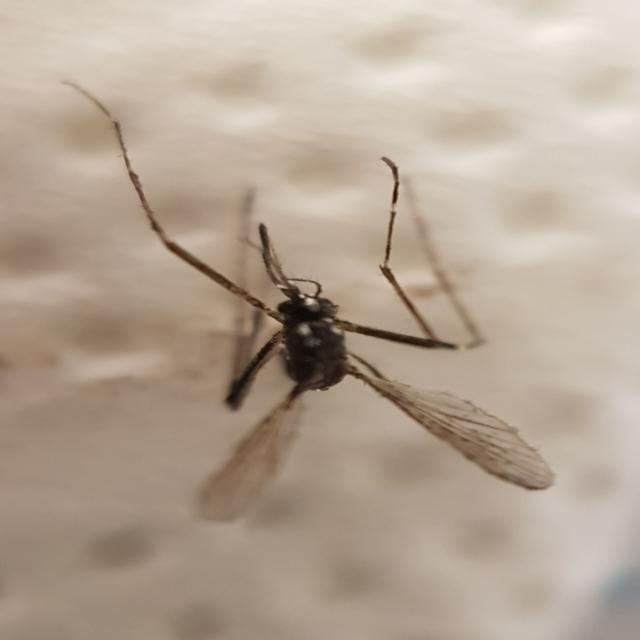albopictus: (71, 109, 559, 515)
